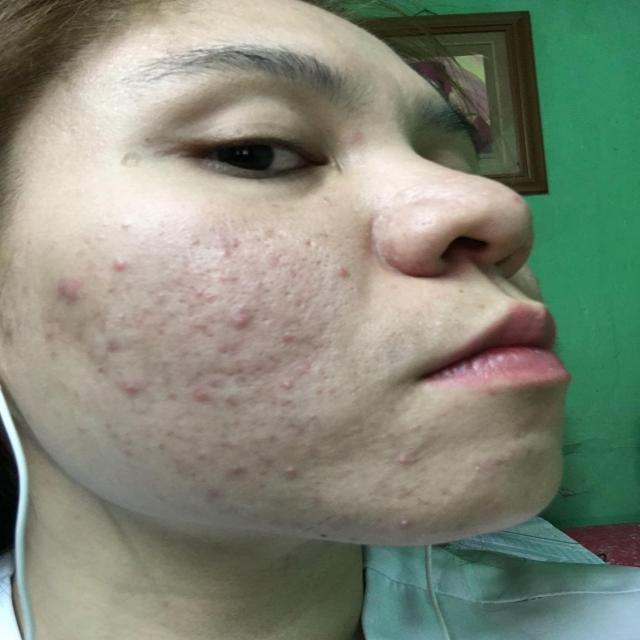Acne: (118, 410, 520, 529), (92, 226, 356, 406), (50, 254, 125, 309), (104, 126, 166, 175)
